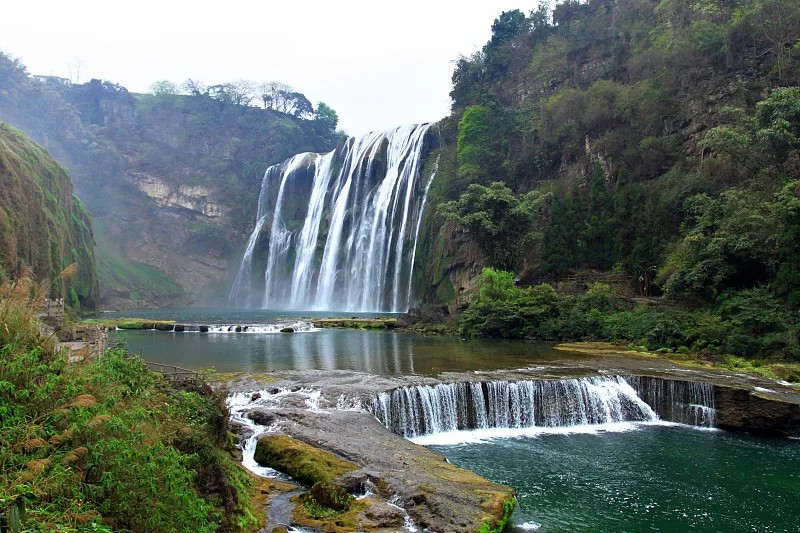Huangguoshu: (226, 123, 438, 314)
